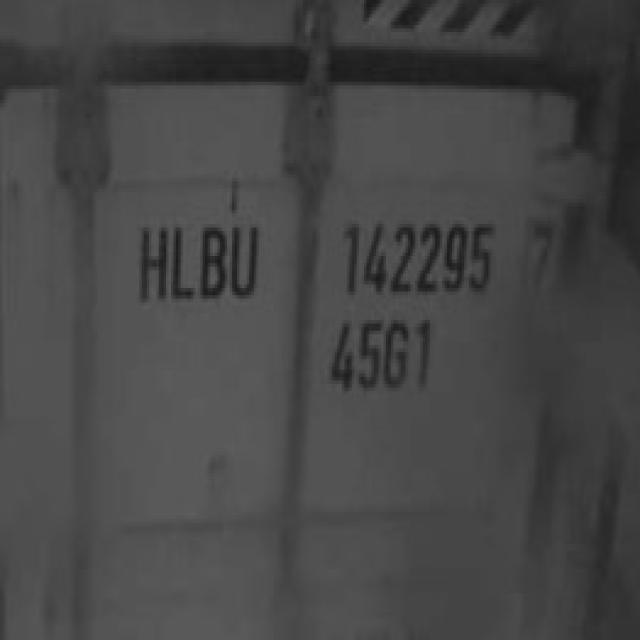dv: (521, 214, 556, 298)
owner: (134, 216, 262, 308)
serial: (336, 212, 494, 304)
size: (328, 310, 438, 396)
